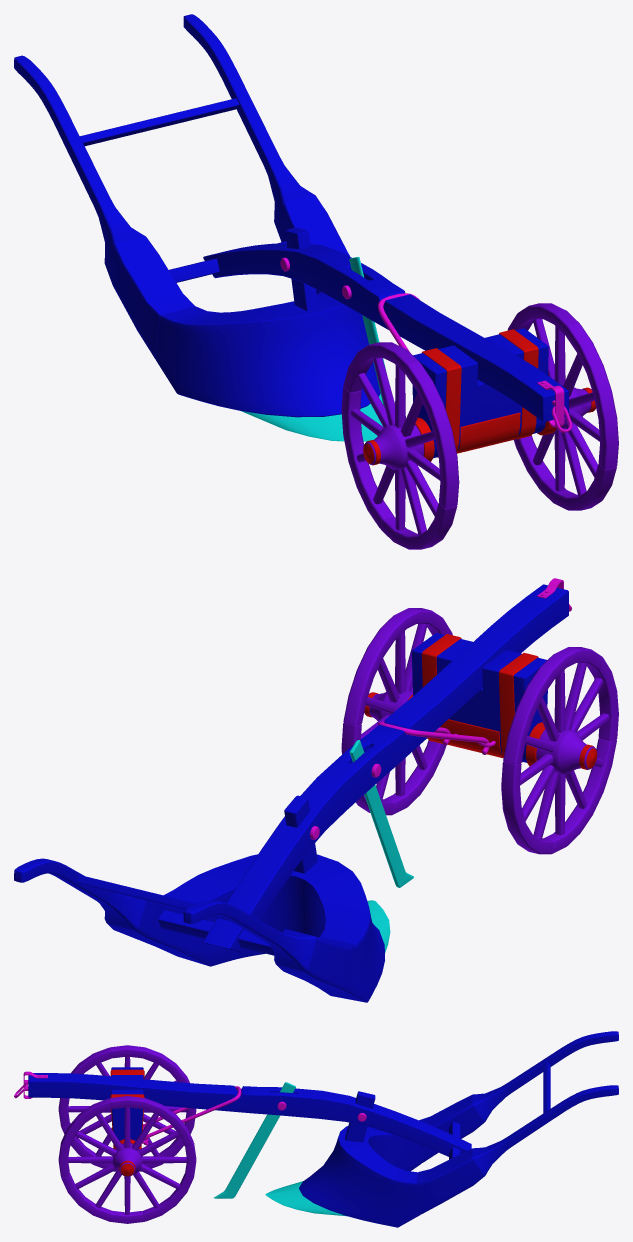
Rendered from FarmingPlow.fbx.
The picture shows the model from 3 angles, top to bottom: view 1: azimuth 30°, elevation 25°; view 2: azimuth 150°, elevation 25°; view 3: azimuth 270°, elevation 25°; orthographic projection. The views are drawn at different scales.
Visible parts, largest first — view 1: Cube; view 2: Cube; view 3: Cube.
Boxes of the visible parts, <box> form: Cube: <box>14,14,618,549</box>; Cube: <box>14,578,618,1002</box>; Cube: <box>14,1031,618,1227</box>.
Size of the model in its own units: 102 by 91.76 by 363.
